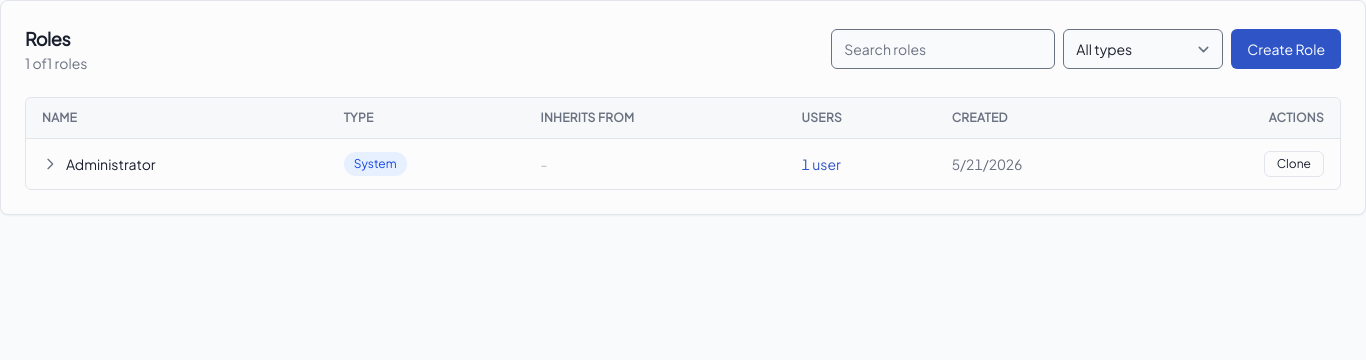
RoleManager — catalog fetch failure handling (Todd review on #802) › expansion row shows the role-permissions error UI when /roles/:id fetch fails (issue #832)
Expected: the text "Administrator" is shown, left=66, top=155, right=156, bottom=173
Click the text "Administrator".
click(111, 164)  # box left=26, top=138, right=1340, bottom=189
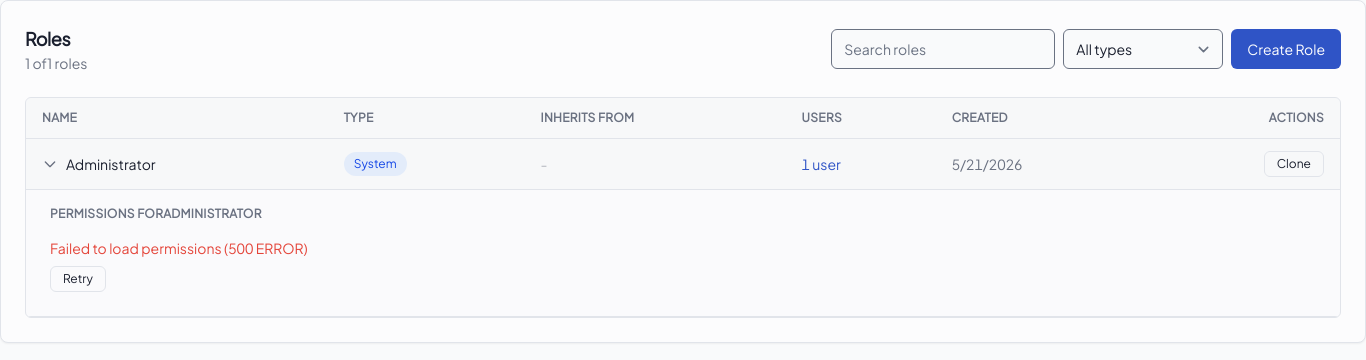
Expected: the button "Retry" is shown, left=50, top=266, right=106, bottom=292
